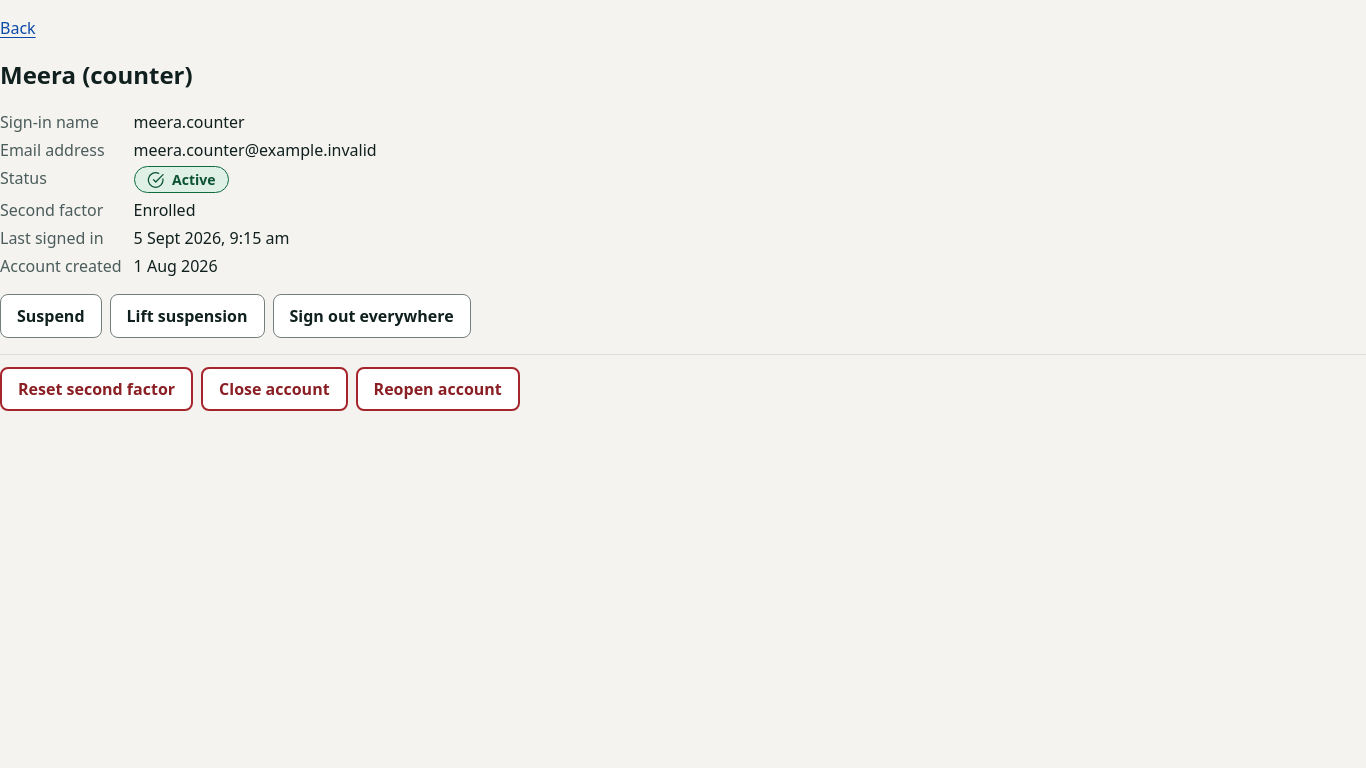
Test: explains a lost race rather than reporting a failure
This screenshot has width=1366, height=768.
Expected: the heading "Meera (counter)" is shown, [0,58,193,91]
Click the button "Suspend".
click(51, 316)  # box [0,294,102,338]
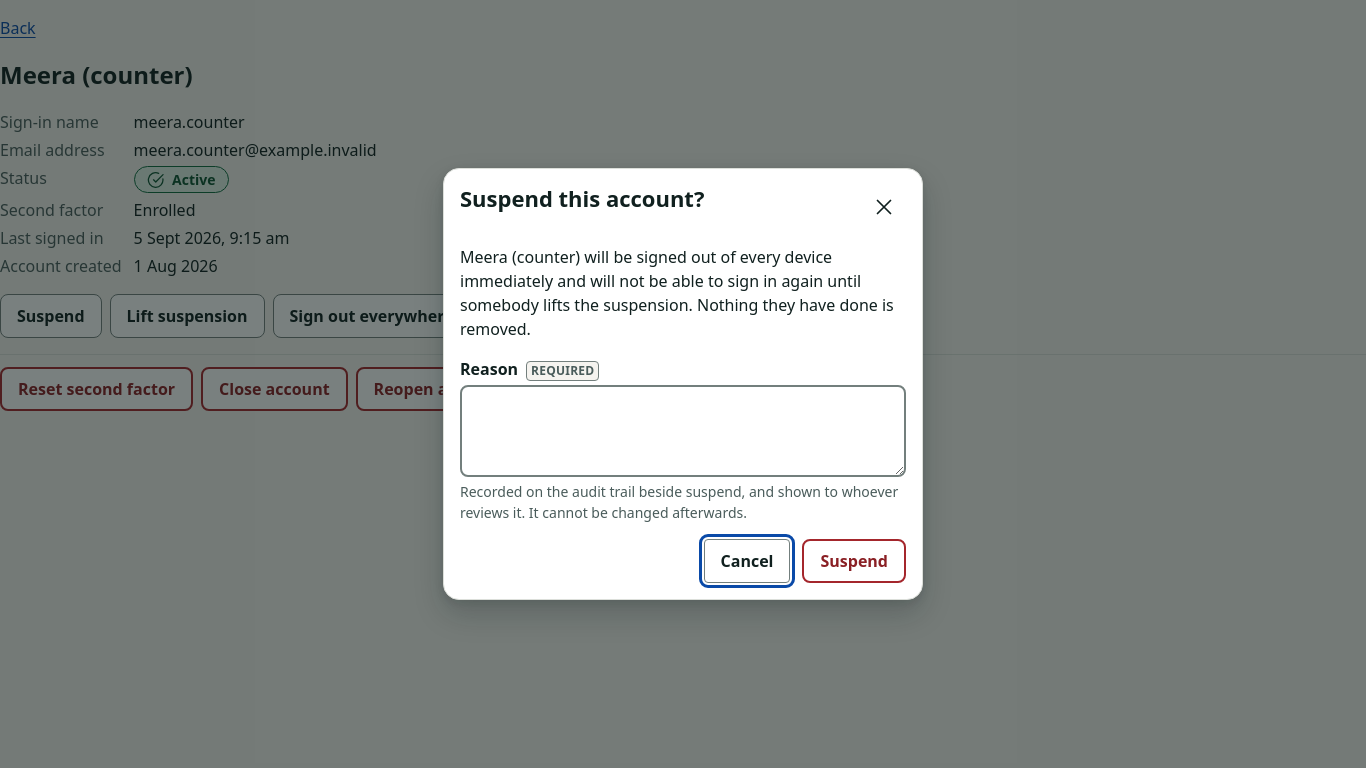
Type "Left the company on 5 September." into the text box.
click(683, 431); type("Left the company on 5 September.")  # box [460,385,906,477]
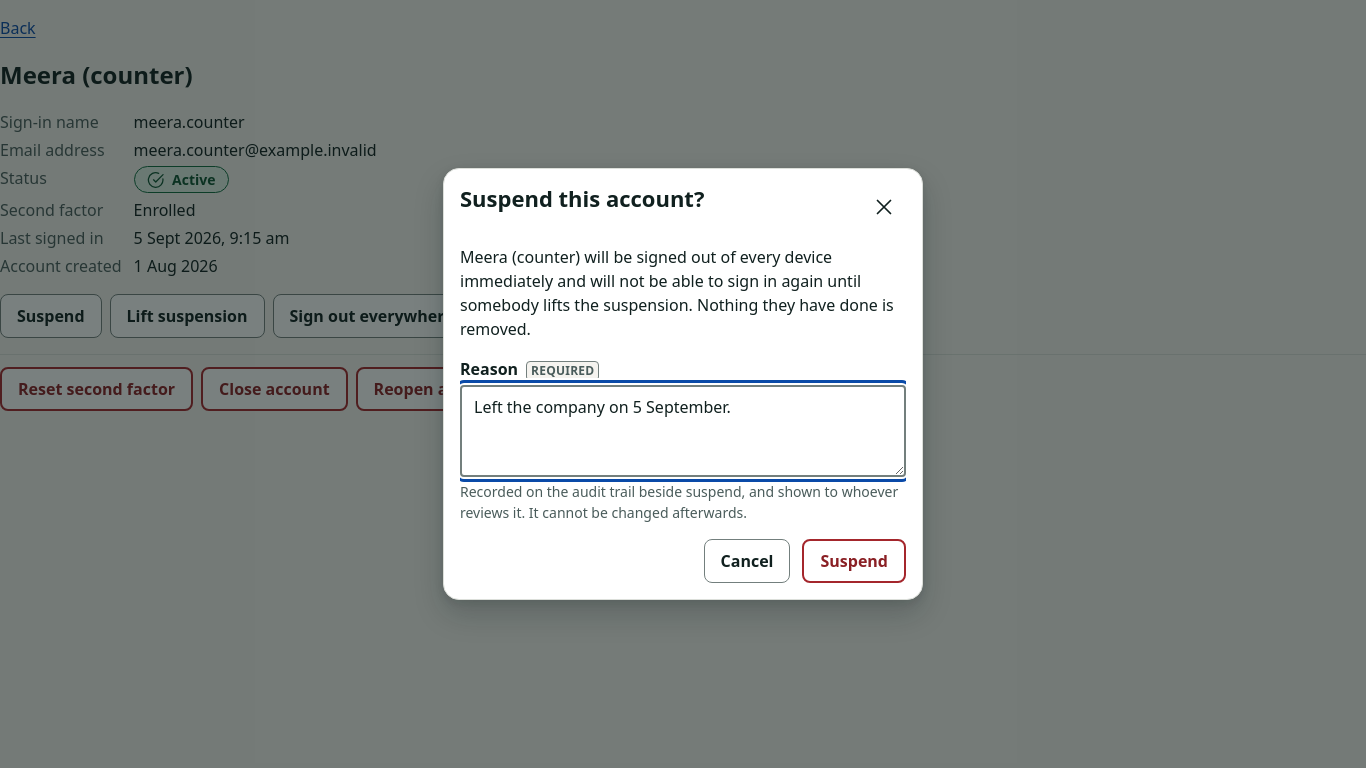
Click the button "Suspend".
click(854, 561)  # box [802,539,906,583]
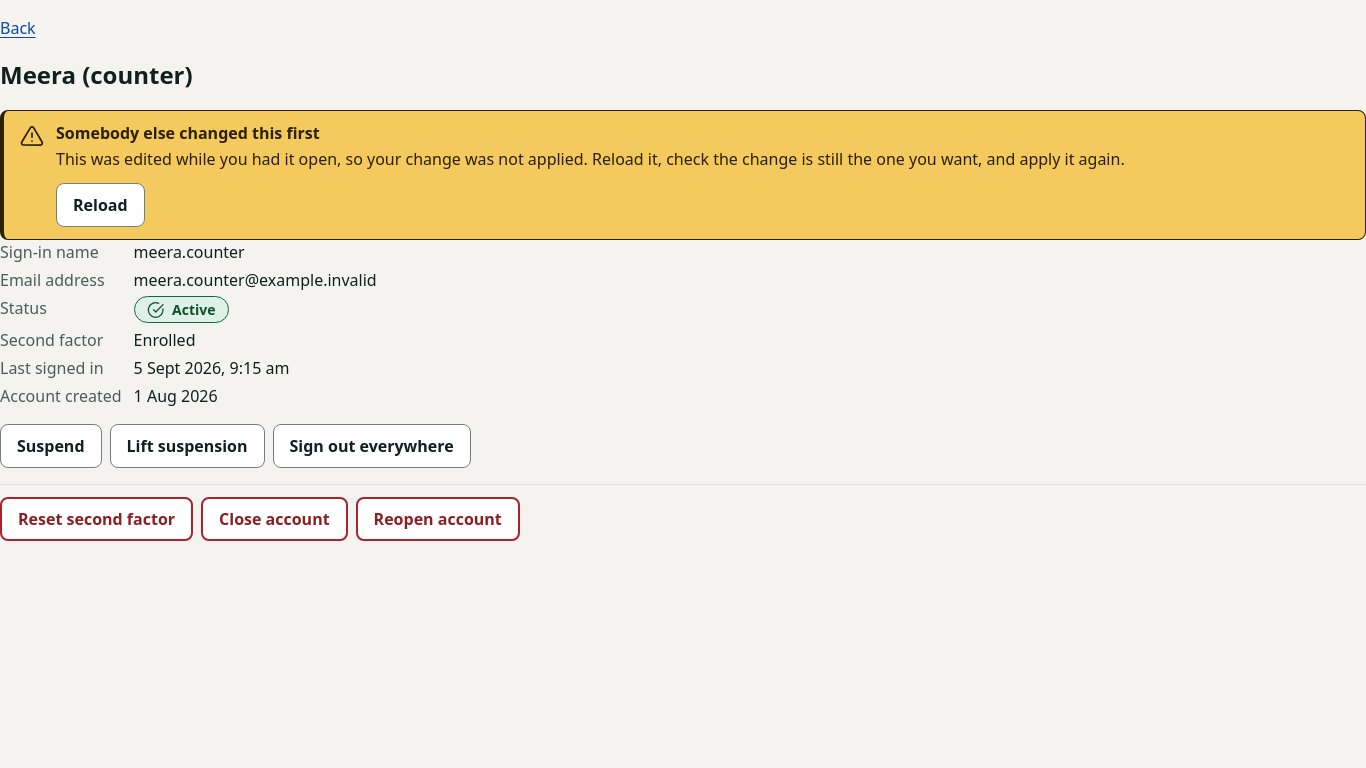
Expected: the text "edited while you had it open" is shown, [56,148,1125,170]
Expected: the button "Reload" is shown, [56,183,145,227]
